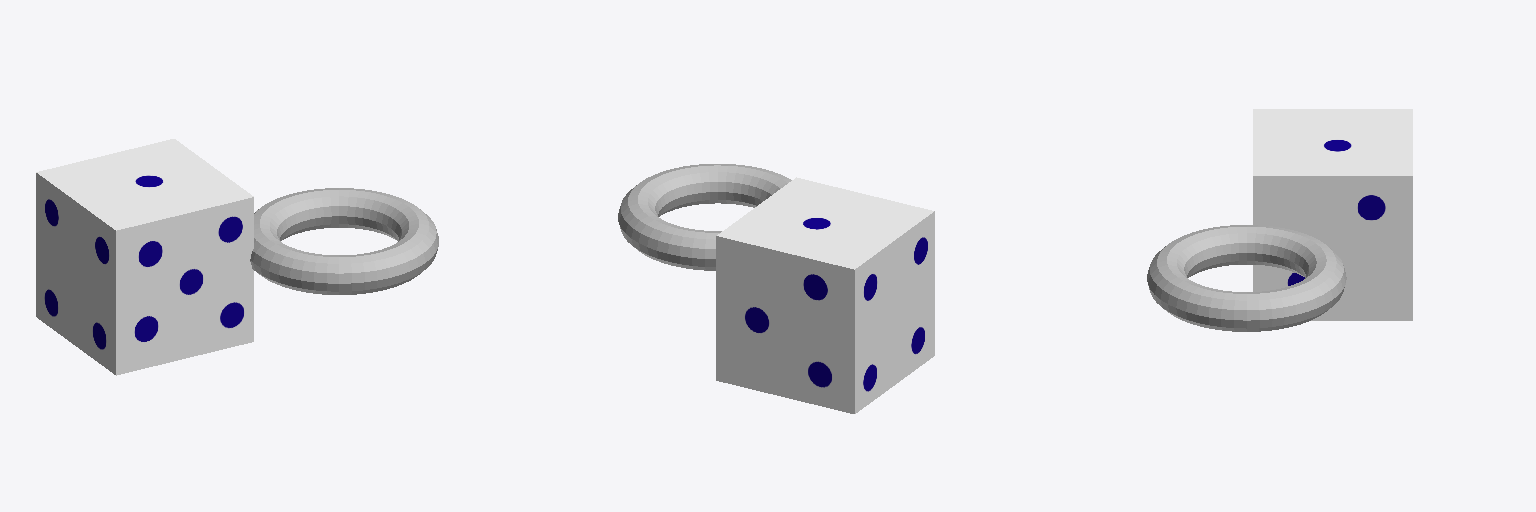
3 renders of one model, left to right at view 1: azimuth 30°, elevation 25°; view 2: azimuth 150°, elevation 25°; view 3: azimuth 270°, elevation 25°, orthographic.
Parts seen in each view (by area): view 1: Cube, Torus; view 2: Cube, Torus; view 3: Cube, Torus.
Boxes of the visible parts, x1,y1,x2,y2 form: Cube: [36, 139, 253, 375]; Torus: [250, 188, 438, 294]; Cube: [716, 177, 934, 413]; Torus: [618, 164, 791, 270]; Cube: [1253, 109, 1412, 320]; Torus: [1147, 225, 1346, 331].
Size of the model in its own units: 4.43 by 2 by 3.33.
2 materials, 1 textured.